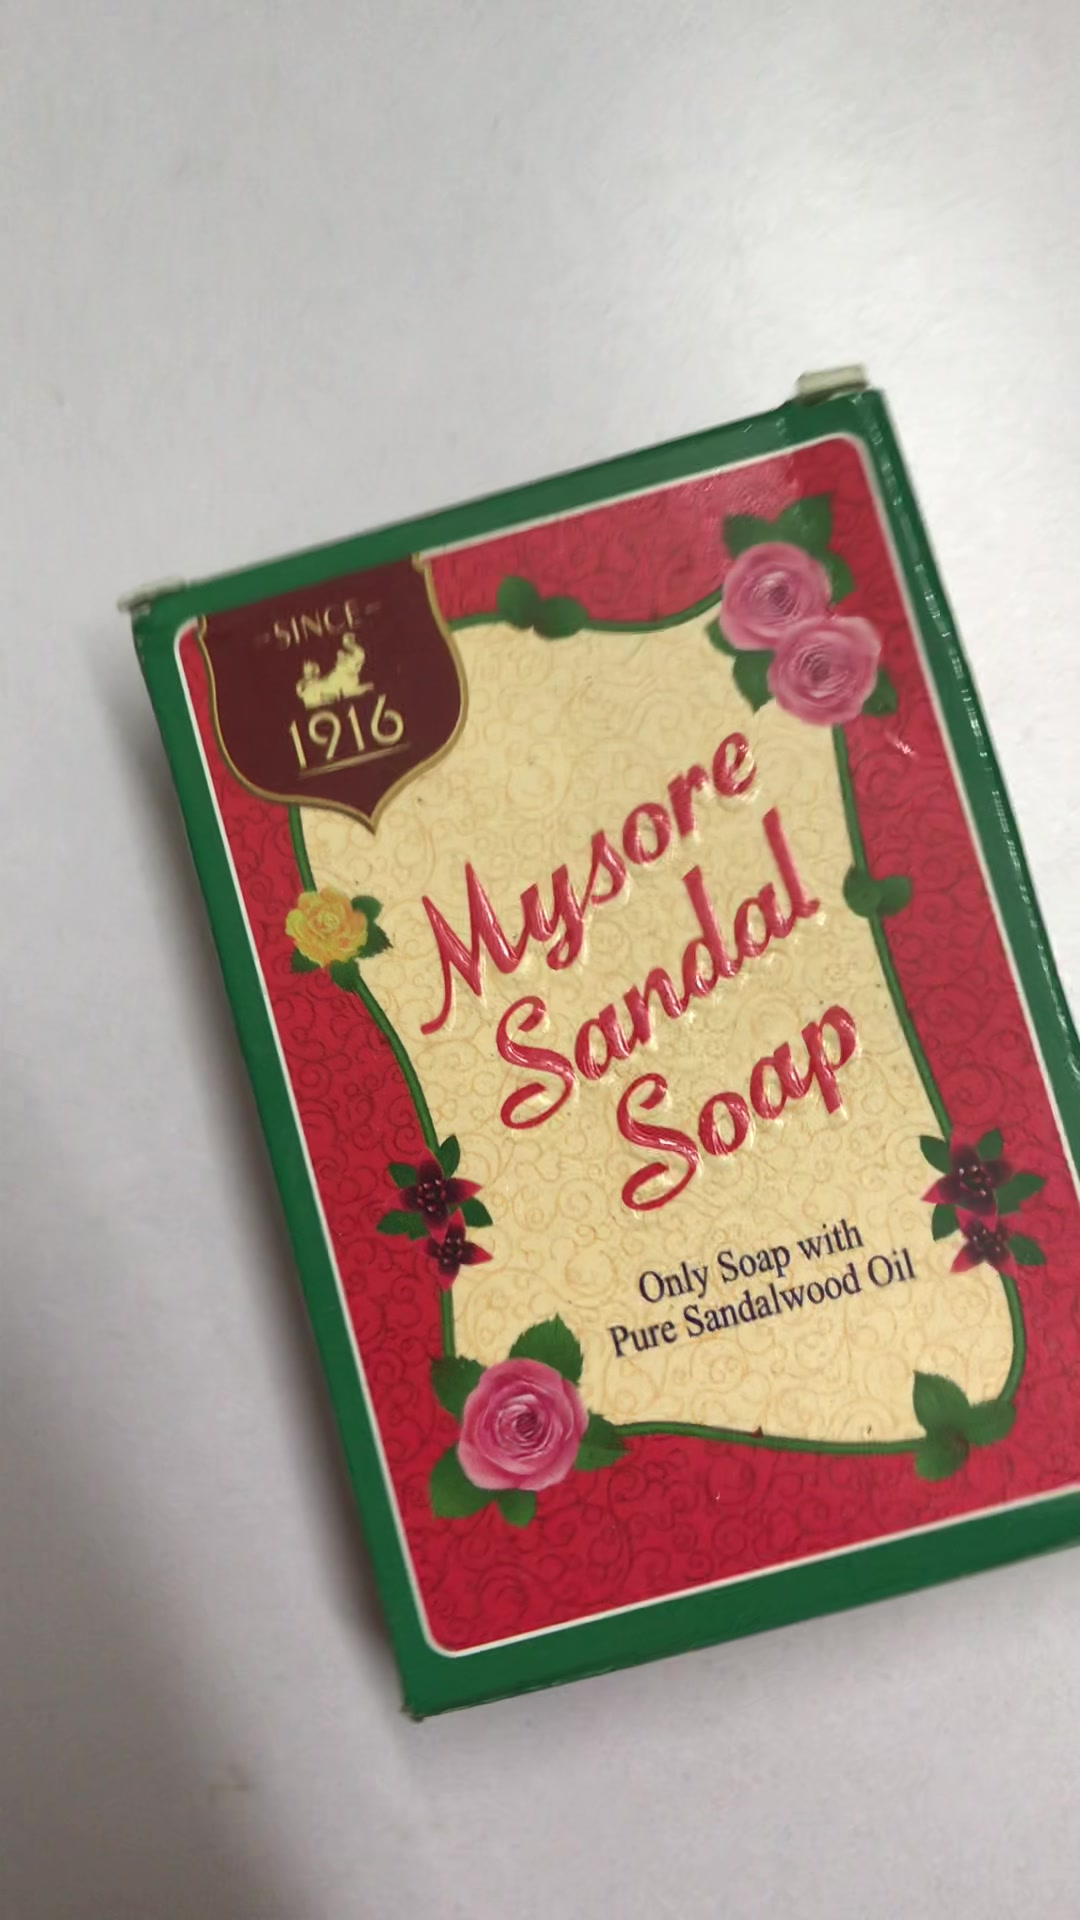mysore sandal soap: (131, 382, 1073, 1729)
